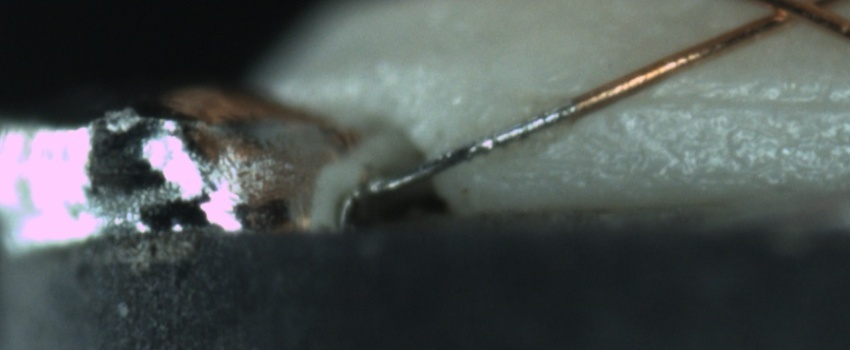CL: (750, 1, 834, 31)
DL: (544, 76, 850, 130)
TS: (364, 102, 578, 194)
TTCW: (353, 71, 649, 202)
